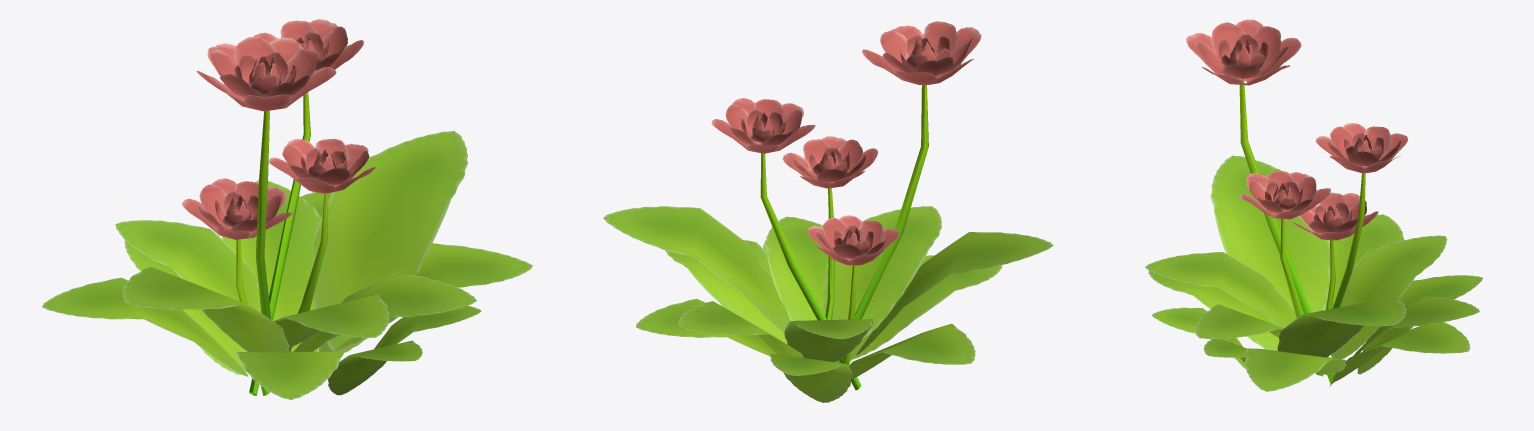
The model's file is plant6.fbx.
3 renders of one model, left to right at view 1: azimuth 30°, elevation 25°; view 2: azimuth 150°, elevation 25°; view 3: azimuth 270°, elevation 25°, orthographic. The views are drawn at different scales.
Parts seen in each view (by area): view 1: plant6; view 2: plant6; view 3: plant6.
Boxes of the visible parts, bbox=[...] form: plant6: bbox=[42, 19, 532, 399]; plant6: bbox=[603, 21, 1053, 402]; plant6: bbox=[1145, 19, 1482, 391].
Bounding box in the file's own units: 164 × 120 × 139.
